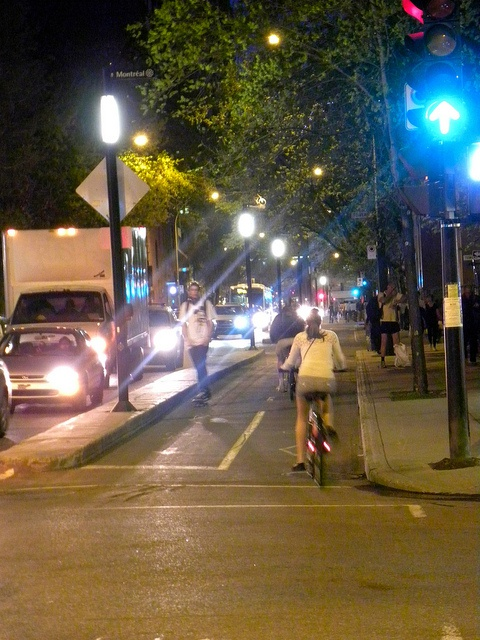non-vehicle: (304, 391, 328, 485), (285, 344, 295, 400)
